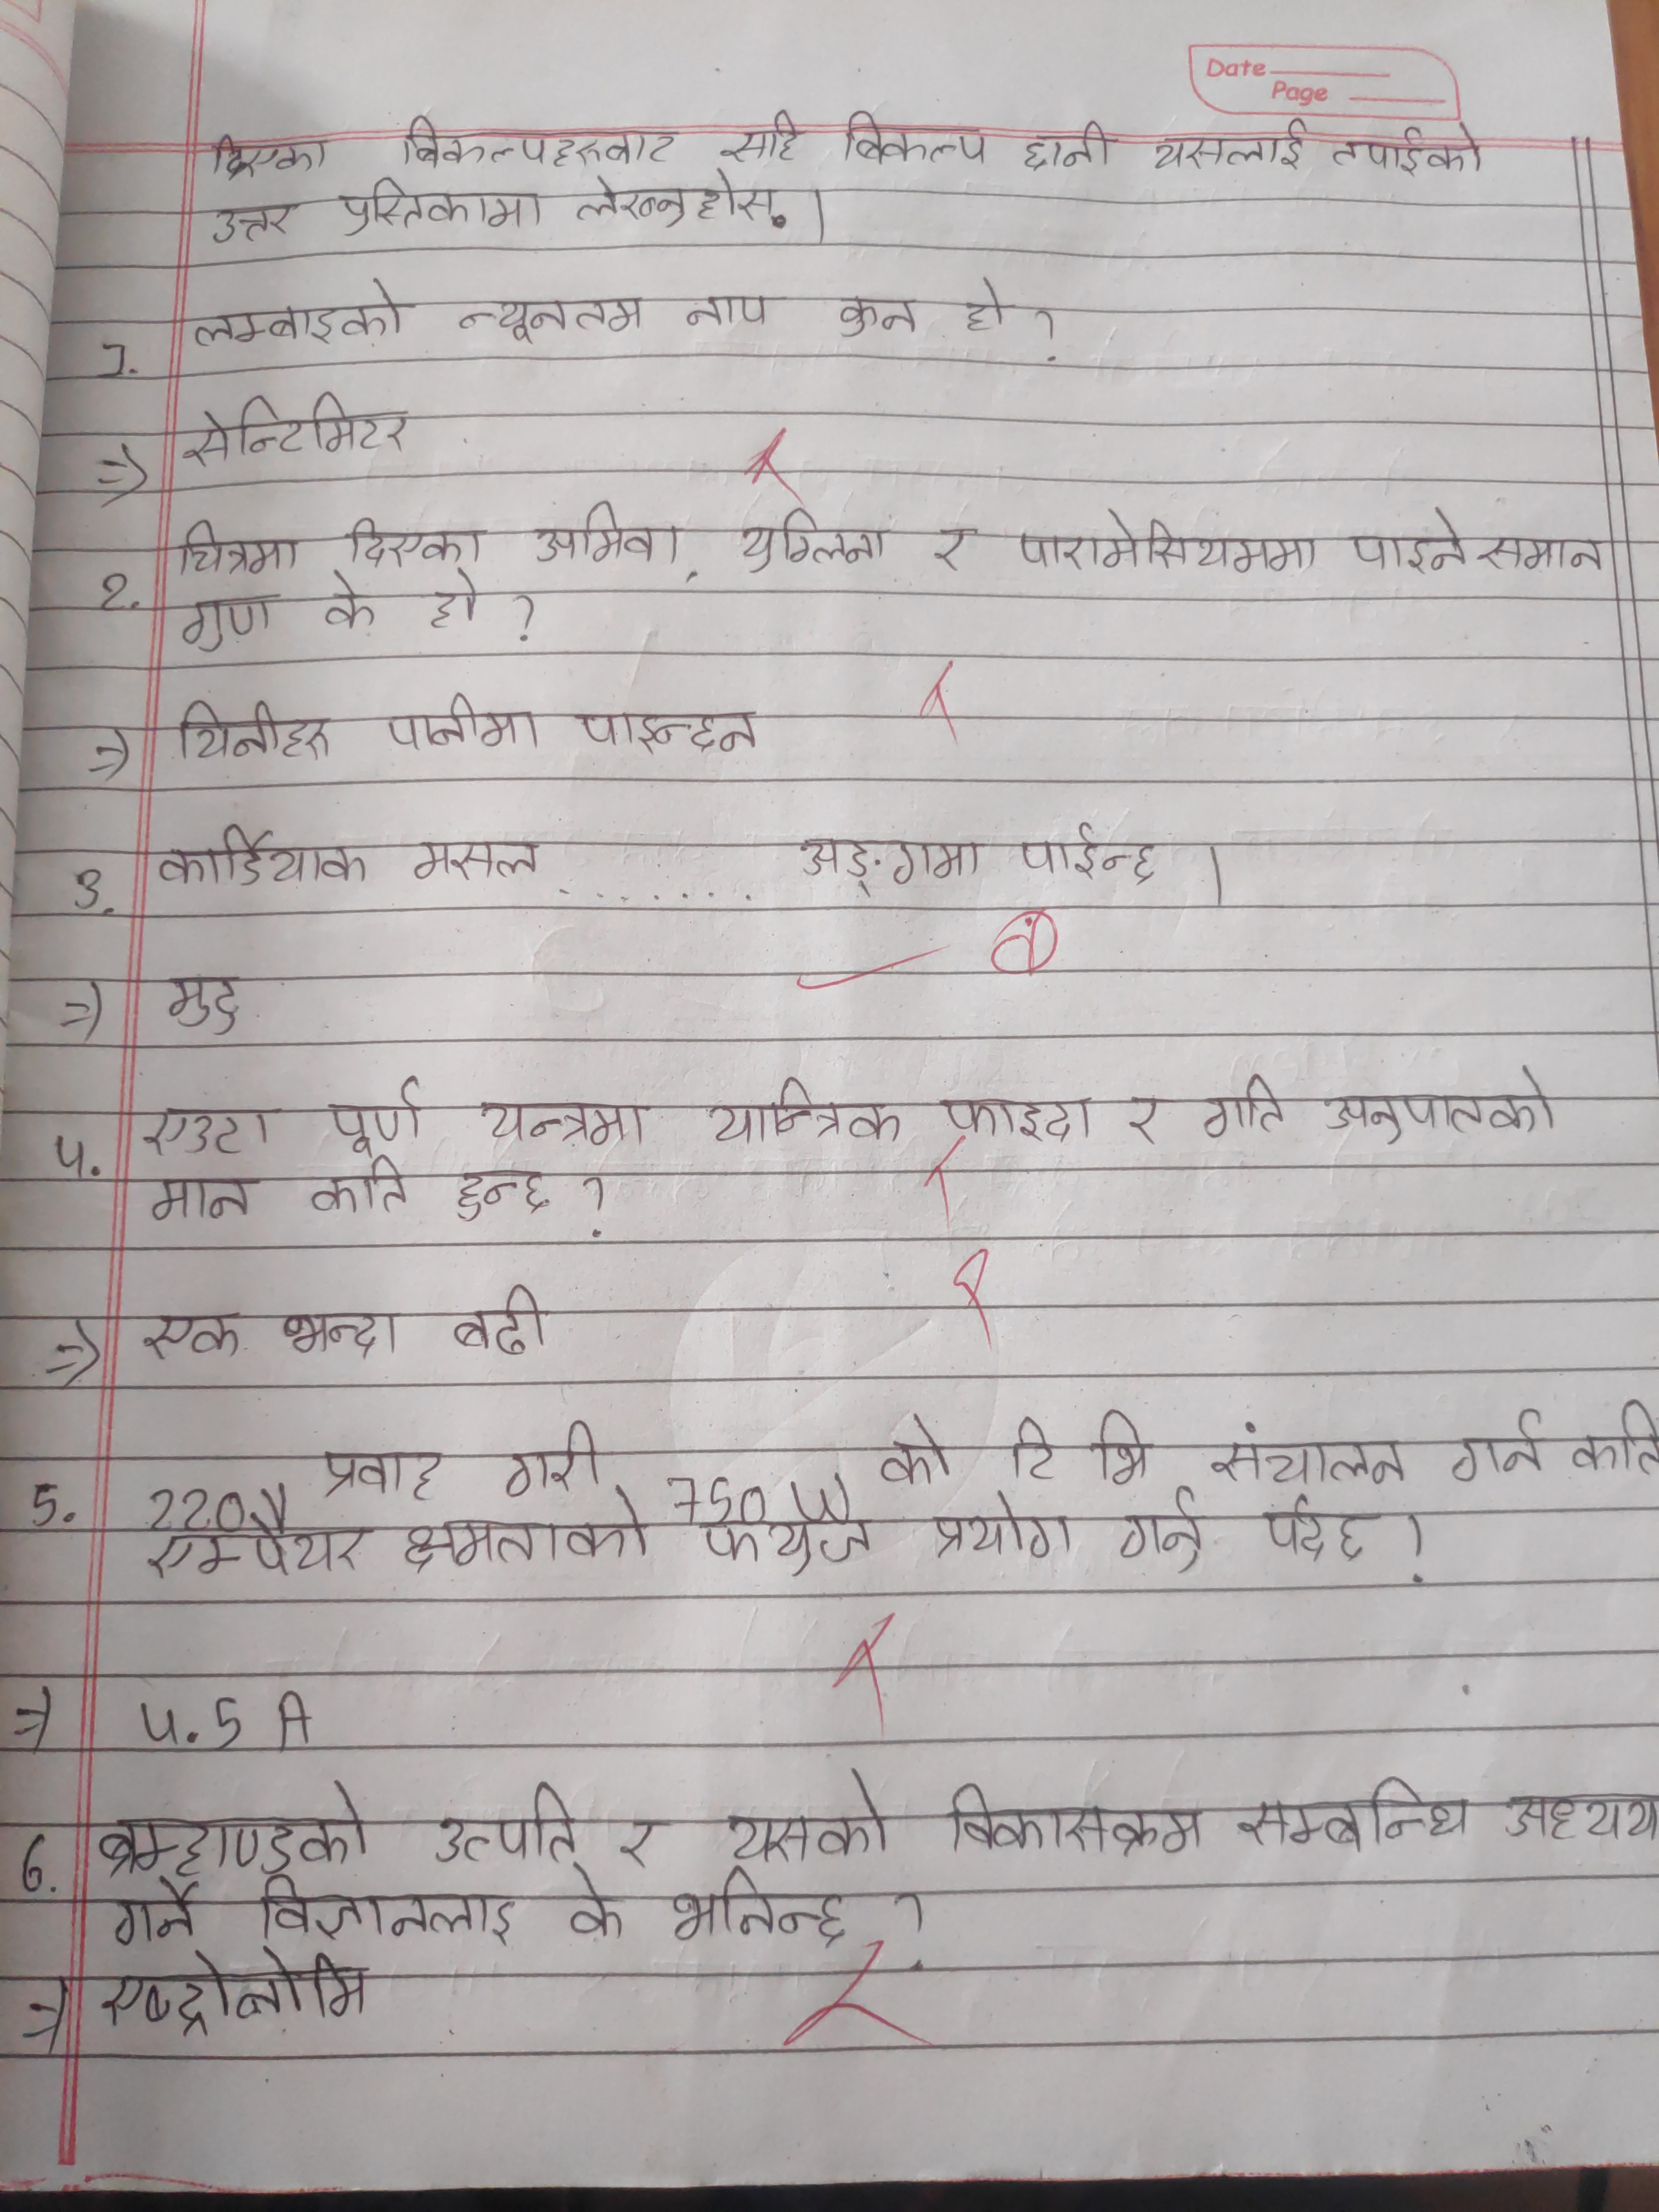text: (94, 1778, 373, 1878), (98, 1942, 376, 2038), (945, 1775, 1213, 1862), (1011, 505, 1321, 580), (244, 1871, 518, 1951), (403, 1494, 657, 1580), (1323, 1062, 1567, 1141), (716, 1763, 901, 1865), (1236, 1770, 1471, 1846), (179, 273, 415, 348), (183, 394, 418, 467), (155, 820, 376, 890), (662, 1869, 856, 1947), (396, 115, 683, 165), (708, 1076, 910, 1148), (796, 829, 986, 902), (427, 1778, 580, 1869), (1202, 1426, 1412, 1489), (138, 1527, 376, 1581), (573, 165, 788, 225), (1002, 1414, 1169, 1489), (697, 1515, 884, 1581), (525, 496, 681, 575), (335, 176, 547, 233), (173, 697, 340, 768), (931, 1491, 1086, 1566), (575, 702, 765, 763), (739, 503, 896, 575), (455, 287, 650, 343), (835, 106, 992, 171), (390, 693, 551, 756), (1495, 1784, 1659, 1844), (1152, 111, 1305, 176), (1016, 820, 1159, 888), (477, 1099, 648, 1155), (1331, 117, 1492, 176), (939, 1087, 1100, 1143), (1344, 505, 1473, 573), (1262, 1487, 1373, 1566), (322, 1078, 436, 1155), (141, 1099, 282, 1160), (1443, 1407, 1554, 1484), (176, 516, 301, 583), (153, 968, 254, 1045), (1567, 1397, 1659, 1480), (1110, 1498, 1211, 1573), (1480, 528, 1607, 587), (206, 125, 335, 183), (347, 517, 493, 568), (408, 829, 540, 885), (321, 1449, 453, 1505), (455, 1280, 551, 1357), (307, 1153, 413, 1221), (505, 1423, 601, 1498), (174, 589, 277, 658), (870, 1414, 958, 1493), (282, 1301, 401, 1357), (450, 1160, 558, 1221), (110, 1878, 206, 1946), (136, 1308, 247, 1366), (150, 1170, 260, 1226), (1021, 115, 1124, 172), (1201, 1071, 1286, 1137), (835, 286, 922, 347), (563, 1878, 633, 1947), (681, 284, 774, 336), (202, 197, 296, 247), (716, 111, 807, 164), (418, 566, 481, 632), (957, 272, 1018, 340), (317, 573, 382, 632), (1117, 1097, 1176, 1151), (929, 519, 981, 575), (617, 1811, 660, 1871)
